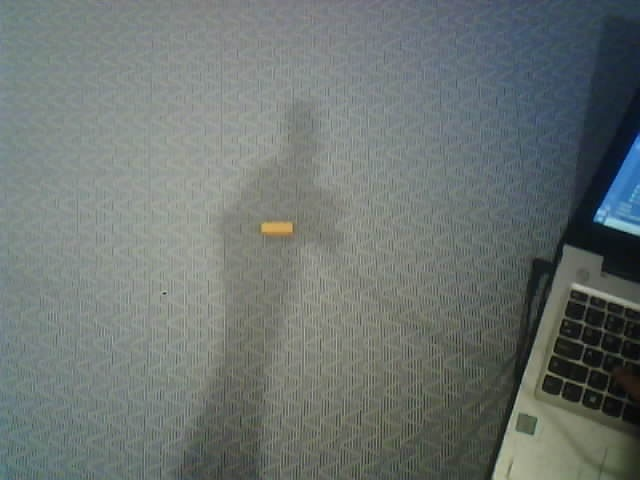lego: (260, 221, 295, 236)
